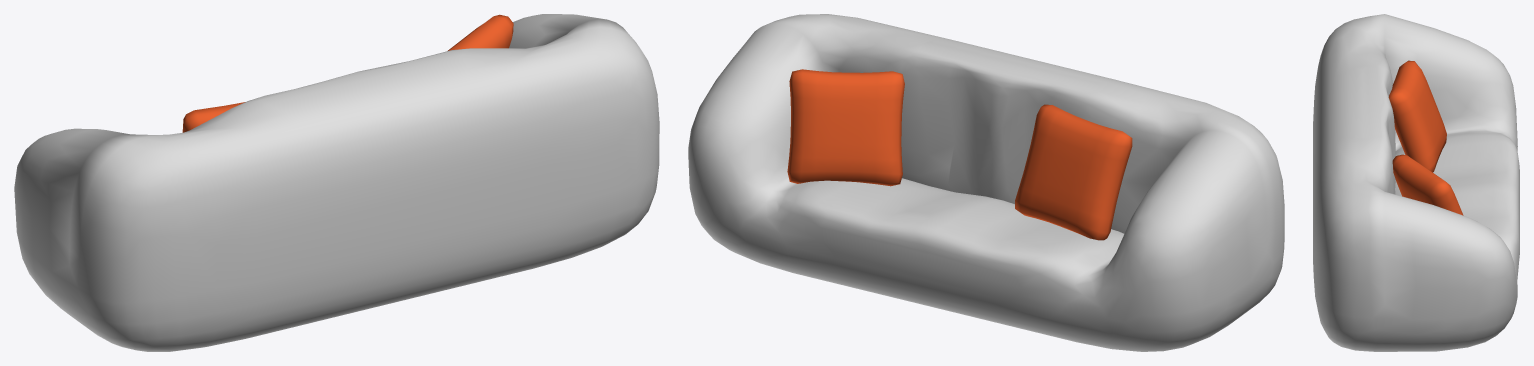
The model's file is sofa.fbx.
3 renders of one model, left to right at view 1: azimuth 30°, elevation 25°; view 2: azimuth 150°, elevation 25°; view 3: azimuth 270°, elevation 25°, orthographic. The views are drawn at different scales.
Visible parts, largest first — view 1: Estructura, Cojin, Cojin.001; view 2: Estructura, Cojin, Cojin.001; view 3: Estructura, Cojin.001, Cojin.
Part boxes in pixels (bbox=[...]): Estructura: bbox=[14, 14, 659, 351]; Cojin: bbox=[448, 14, 513, 50]; Cojin.001: bbox=[182, 102, 245, 132]; Estructura: bbox=[688, 14, 1284, 351]; Cojin: bbox=[787, 69, 904, 186]; Cojin.001: bbox=[1015, 104, 1132, 240]; Estructura: bbox=[1313, 14, 1519, 351]; Cojin.001: bbox=[1388, 60, 1446, 172]; Cojin: bbox=[1392, 154, 1463, 215].
Bounding box in the file's own units: 7.61 × 18.69 × 6.75.
